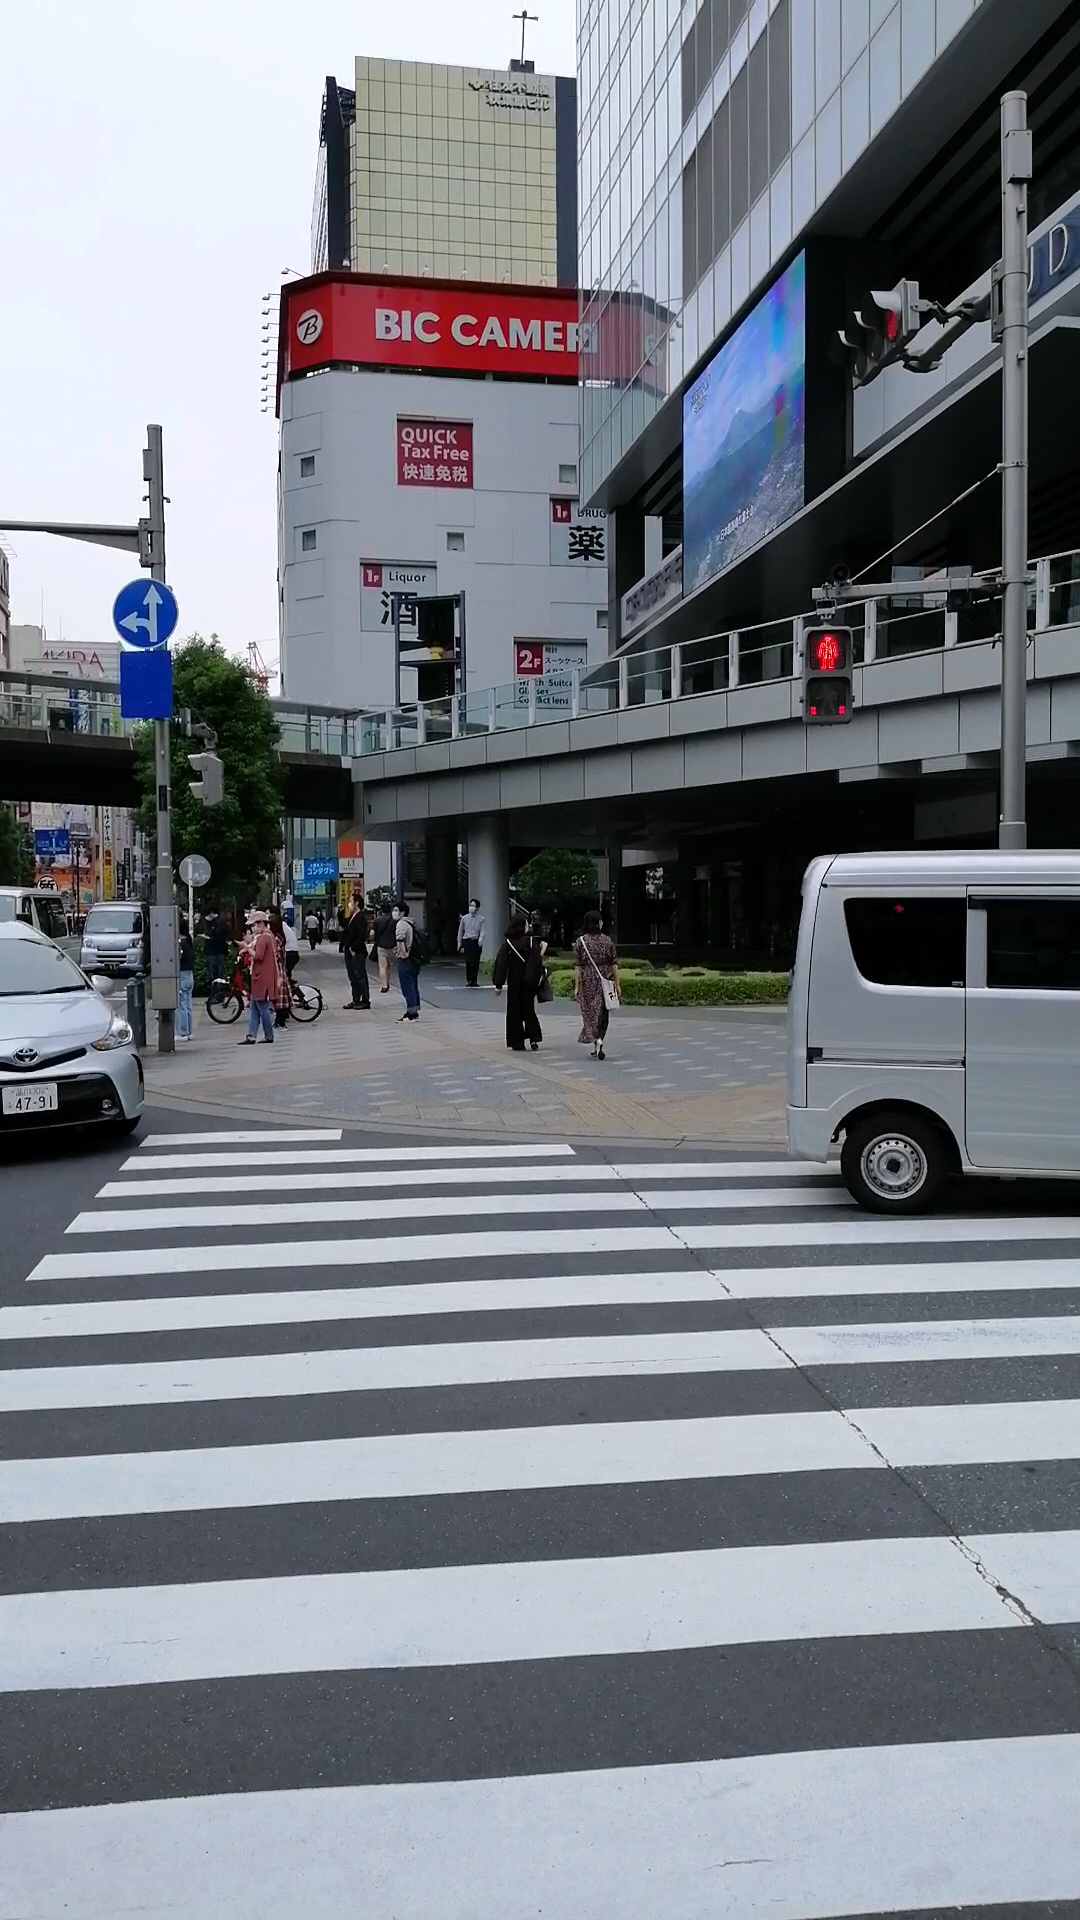red: (804, 626, 853, 724)
